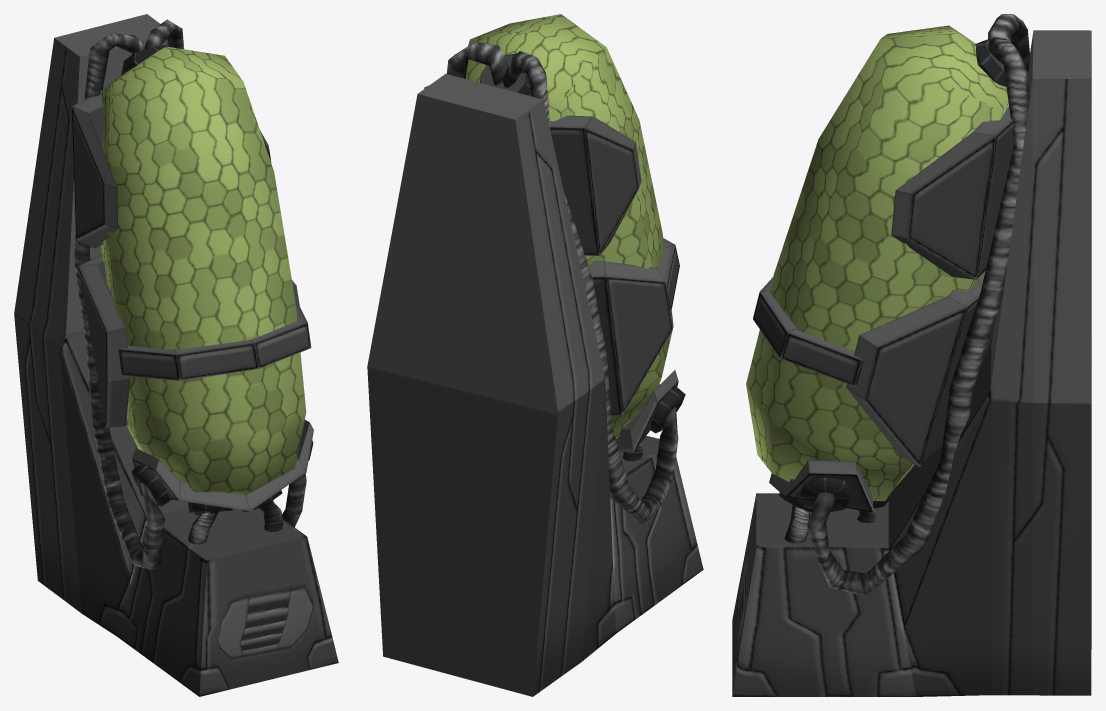
The model's file is Pod 01.fbx.
The picture shows the model from 3 angles, left to right: view 1: azimuth 30°, elevation 25°; view 2: azimuth 150°, elevation 25°; view 3: azimuth 270°, elevation 25°; orthographic projection. The views are drawn at different scales.
Visible parts, largest first — view 1: Pod 01; view 2: Pod 01; view 3: Pod 01.
Part boxes in pixels (x1=…): Pod 01: x1=14, y1=14, x2=338, y2=696; Pod 01: x1=367, y1=14, x2=703, y2=696; Pod 01: x1=732, y1=14, x2=1091, y2=696.
Bounding box in the file's own units: 71.23 × 196 × 102.
